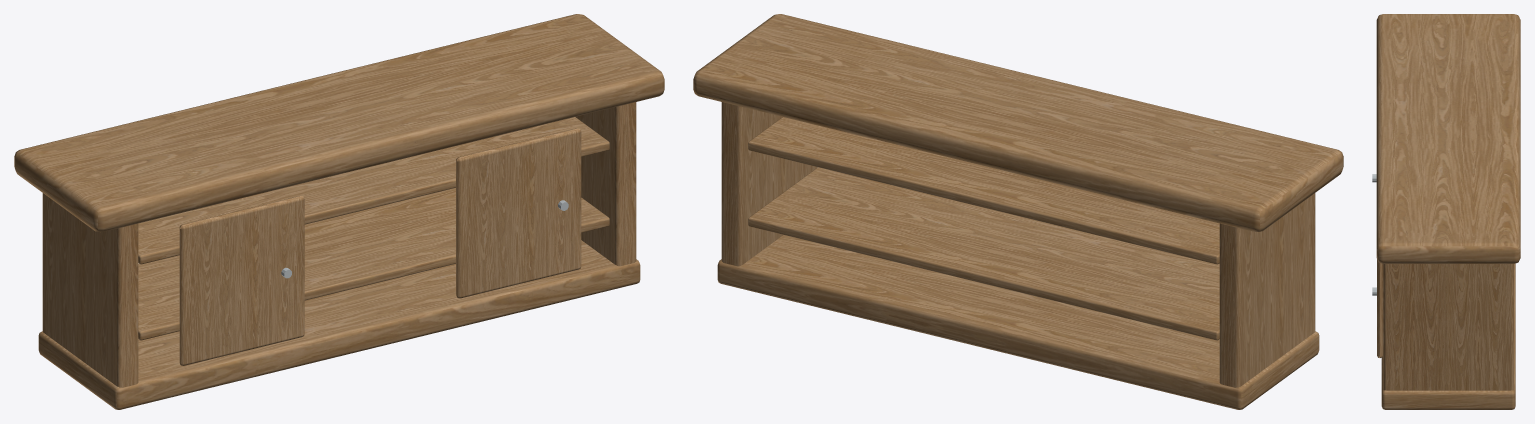
Rendered from tv_stand_black.glb.
The picture shows the model from 3 angles, left to right: view 1: azimuth 30°, elevation 25°; view 2: azimuth 150°, elevation 25°; view 3: azimuth 270°, elevation 25°; orthographic projection. The views are drawn at different scales.
Visible parts, largest first — view 1: TV cabinet top, bottom, cupboard door.001, cupboard door, open shelf, side panel, open shelf.001, side panel.001; view 2: TV cabinet top, open shelf, bottom, open shelf.001, side panel, side panel.001; view 3: TV cabinet top, side panel.001, bottom, cupboard door.001.
Part boxes in pixels (x1,y1,x2,y2): TV cabinet top: [14, 14, 664, 231]; bottom: [38, 240, 640, 409]; cupboard door.001: [456, 128, 581, 298]; cupboard door: [179, 196, 304, 365]; open shelf: [138, 188, 609, 340]; side panel: [42, 193, 138, 387]; open shelf.001: [138, 117, 609, 264]; side panel.001: [575, 102, 636, 266]; TV cabinet top: [693, 14, 1343, 231]; open shelf: [748, 167, 1219, 340]; bottom: [717, 235, 1319, 409]; open shelf.001: [748, 117, 1219, 264]; side panel: [1219, 193, 1315, 387]; side panel.001: [721, 102, 817, 266]; TV cabinet top: [1376, 14, 1520, 263]; side panel.001: [1383, 264, 1513, 390]; bottom: [1381, 263, 1515, 409]; cupboard door.001: [1377, 259, 1382, 357].
Size of the model in its own units: 1.65 by 0.5775 by 0.443.
2 materials, 1 textured.
